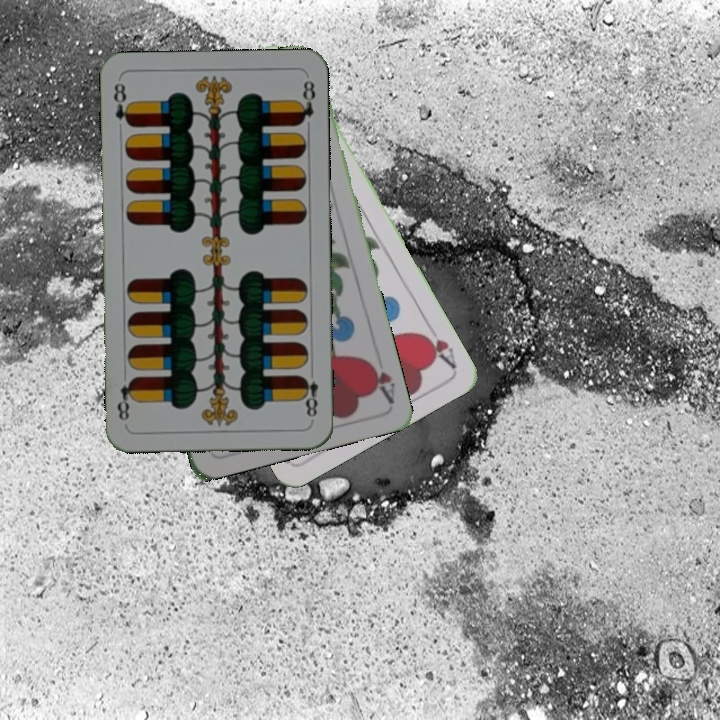E8: (297, 364, 321, 420), (109, 79, 134, 129)
HA: (416, 327, 459, 371), (362, 354, 398, 406)
